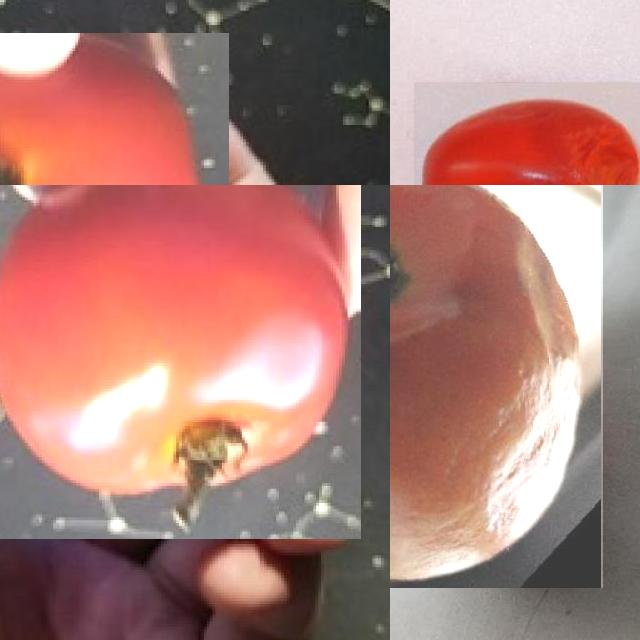1: (390, 185, 603, 588)
Fresh Tomato: (0, 185, 361, 539), (0, 33, 229, 185)
Rotten Tomato: (414, 81, 640, 185)
